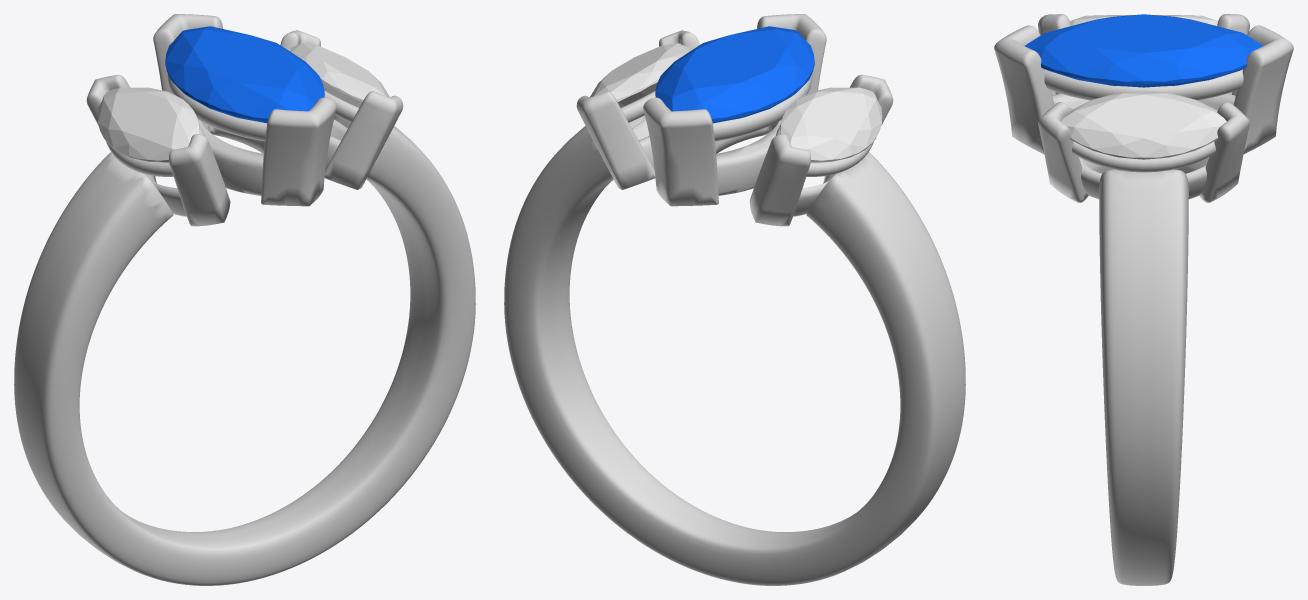
The model's file is bluesapphire-marquise-platinum-protectededges2prongs-straighttaperedband-3stone.glb.
The picture shows the model from 3 angles, left to right: view 1: azimuth 30°, elevation 25°; view 2: azimuth 150°, elevation 25°; view 3: azimuth 270°, elevation 25°; orthographic projection. The views are drawn at different scales.
Visible parts, largest first — view 1: metal, stone, side.001, side; view 2: metal, stone, side.001, side; view 3: metal, stone, side, side.001.
Part boxes in pixels (x1,y1,x2,y2): metal: (14, 14, 475, 585); stone: (165, 26, 324, 123); side.001: (97, 87, 199, 161); side: (290, 43, 389, 107); metal: (504, 14, 965, 585); stone: (655, 26, 814, 123); side.001: (780, 87, 882, 161); side: (590, 43, 689, 107); metal: (994, 14, 1293, 585); stone: (1024, 14, 1263, 87); side: (1061, 90, 1226, 159); side.001: (1070, 15, 1217, 25).
Size of the model in its own units: 20.11 by 22.73 by 11.69.
